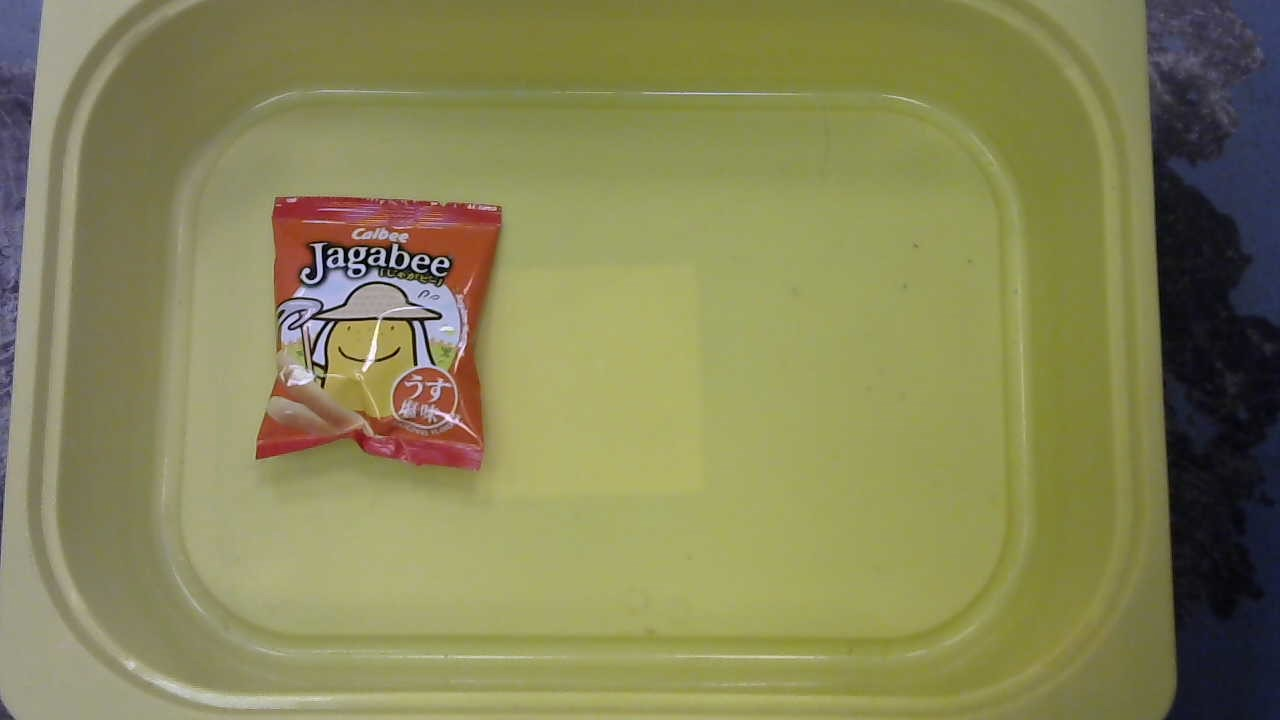JagabeeFarmer: (243, 181, 504, 483)
